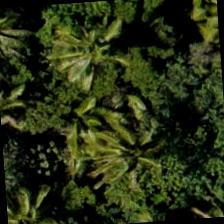Kelapa_Sawit: (84, 104, 180, 200), (39, 4, 134, 100), (5, 178, 69, 223)
